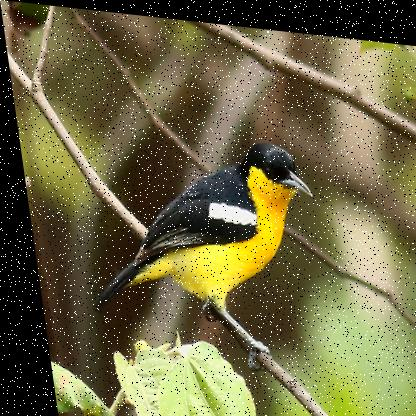Burung: (64, 118, 324, 332)
